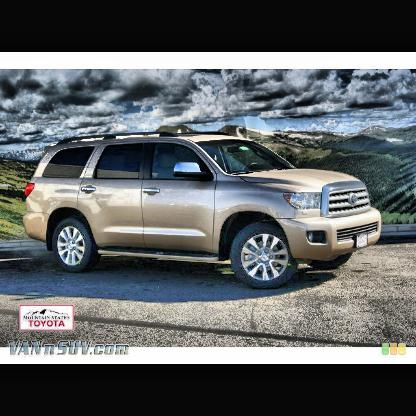Toyota Sequoia SUV 2012: (24, 130, 384, 291)
